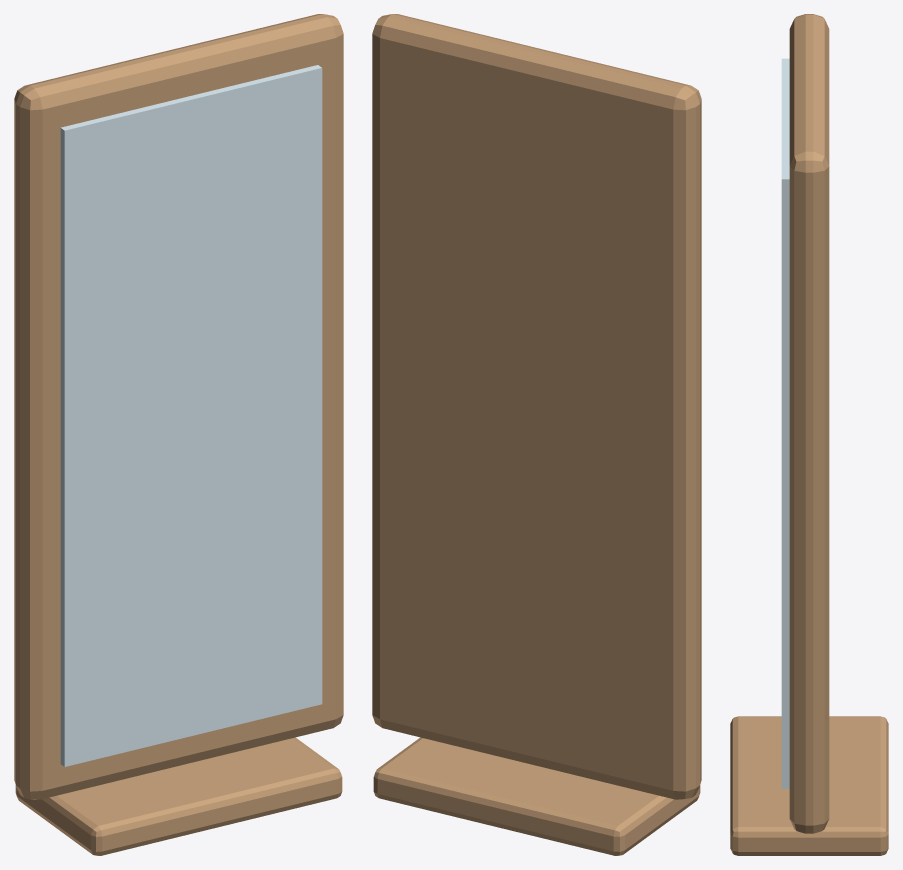
File: guong.glb
The picture shows the model from 3 angles, left to right: view 1: azimuth 30°, elevation 25°; view 2: azimuth 150°, elevation 25°; view 3: azimuth 270°, elevation 25°; orthographic projection. The views are drawn at different scales.
Visible parts, largest first — view 1: guong-1, guong-0, guong-2; view 2: guong-0, guong-2; view 3: guong-0, guong-2, guong-1.
Part boxes in pixels (box(x1,y1,x2,y2)): guong-1: box(60, 65, 322, 766); guong-0: box(14, 14, 343, 799); guong-2: box(15, 737, 342, 855); guong-0: box(372, 14, 701, 799); guong-2: box(373, 737, 700, 855); guong-0: box(789, 14, 829, 833); guong-2: box(730, 716, 888, 855); guong-1: box(781, 58, 789, 788).
Size of the model in its own units: 0.9 by 2 by 0.4.
